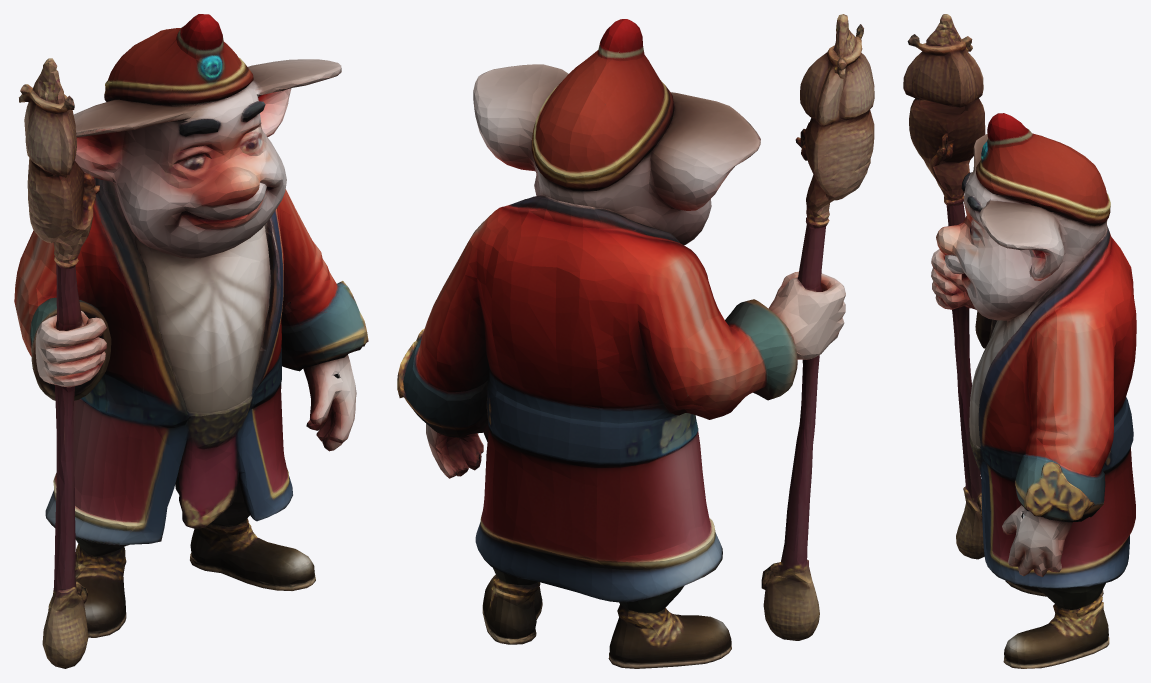
File: pig_4.glb
3 views of the same model, side by side, from view 1: azimuth 30°, elevation 25°; view 2: azimuth 150°, elevation 25°; view 3: azimuth 270°, elevation 25° (orthographic). The views are drawn at different scales.
Parts seen in each view (by area): view 1: world; view 2: world; view 3: world.
Part boxes in pixels (bbox=[...]): world: bbox=[14, 14, 368, 668]; world: bbox=[397, 14, 874, 668]; world: bbox=[903, 14, 1136, 668].
Size of the model in its own units: 0.6578 by 0.9995 by 0.4004.
1 material, 1 textured.
